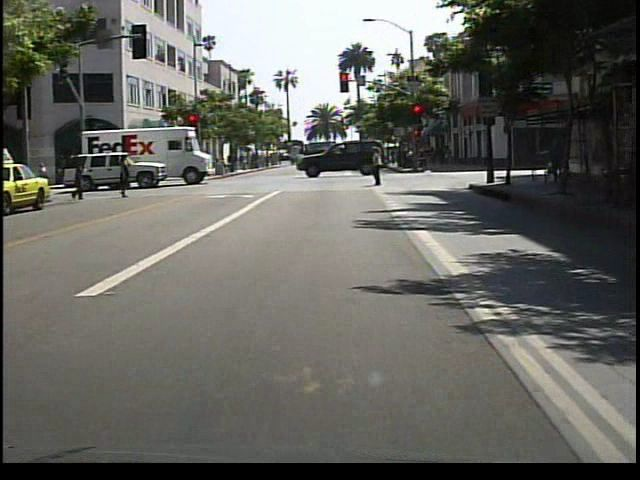person: (545, 136, 572, 191), (368, 144, 393, 188), (112, 153, 134, 201), (70, 156, 91, 205)
